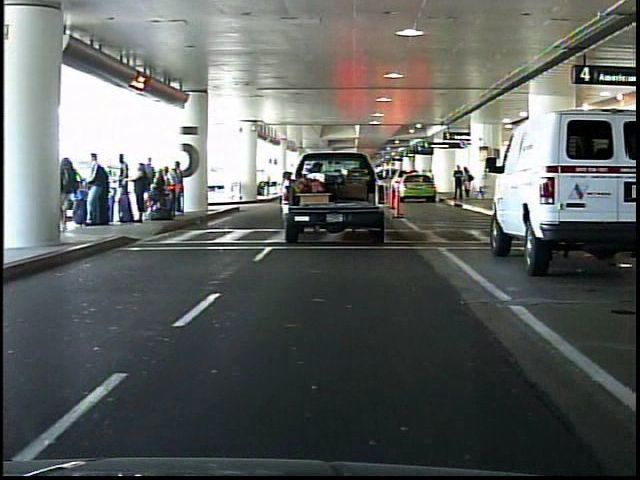person: (451, 165, 464, 202), (463, 165, 475, 203)
